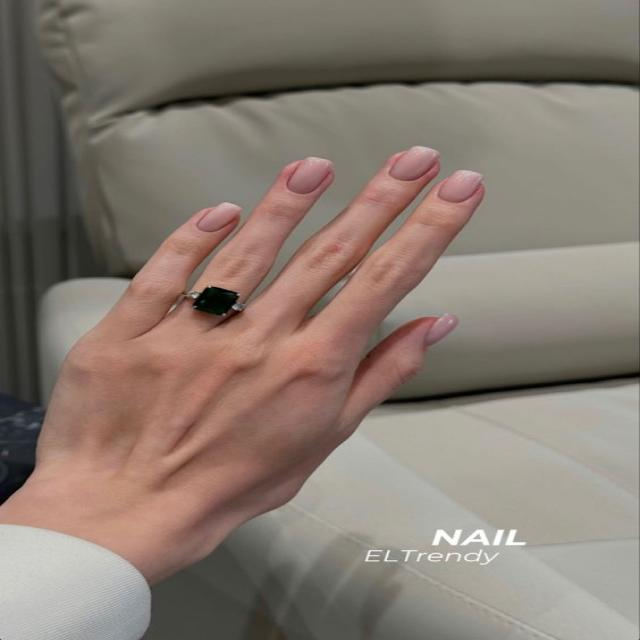Fingernail: (391, 147, 436, 179), (289, 159, 330, 193), (439, 171, 481, 202), (199, 203, 240, 232), (426, 315, 456, 346)
